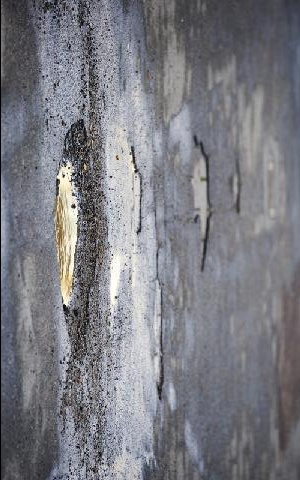pothole: (53, 118, 100, 358), (190, 134, 212, 272), (155, 277, 167, 399), (129, 145, 143, 235), (231, 157, 242, 214)
